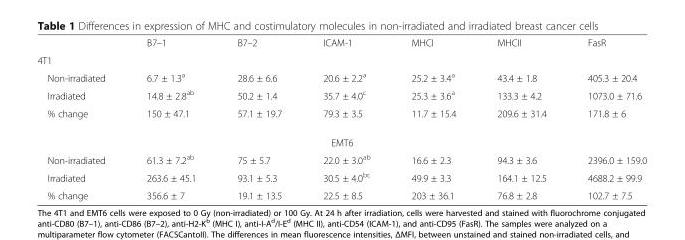table: (36, 36, 646, 200)
table column: (125, 36, 216, 200), (475, 36, 566, 200), (36, 36, 125, 200), (301, 36, 390, 200), (216, 36, 301, 200), (390, 36, 475, 200), (566, 36, 646, 200)
table column header: (36, 36, 646, 51)
table projected row header: (36, 127, 646, 150), (36, 51, 646, 68)
table row: (36, 104, 646, 127), (36, 127, 646, 150), (36, 85, 646, 104), (36, 167, 646, 186), (36, 51, 646, 68), (36, 68, 646, 85), (36, 150, 646, 167), (36, 36, 646, 51), (36, 186, 646, 200)
